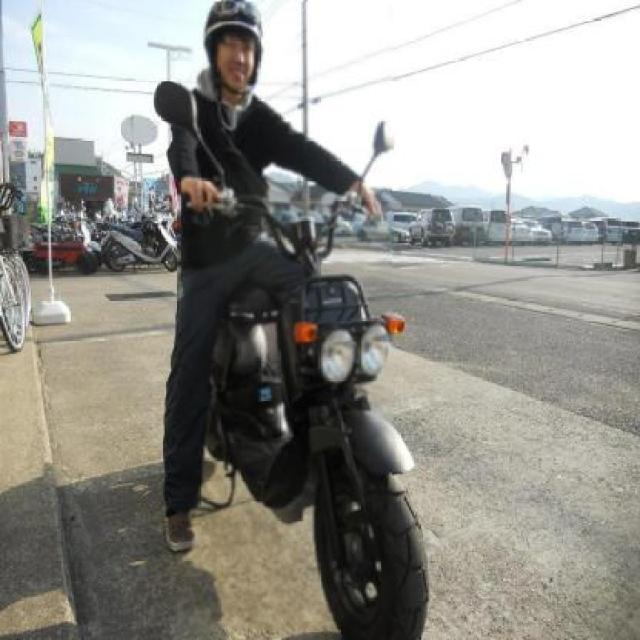helmet: (193, 0, 274, 101)
motorcycle: (153, 0, 461, 640)
